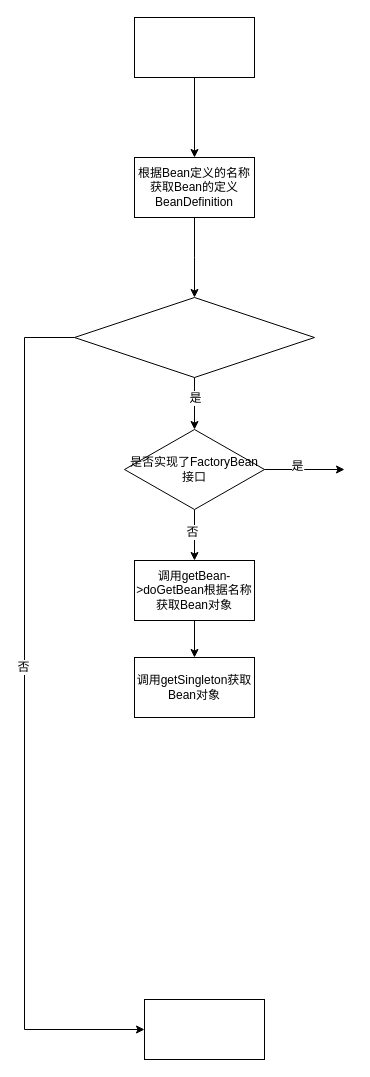
Image size: 370x1077. Some labels were removed from this diagram. The centre of each missing label's shape, as x and y in pixels:
Bean不是抽象的 &是单例的 &不是懒加载的: point (194, 337)
获取加载的Bean定义的名称: point (194, 47)
